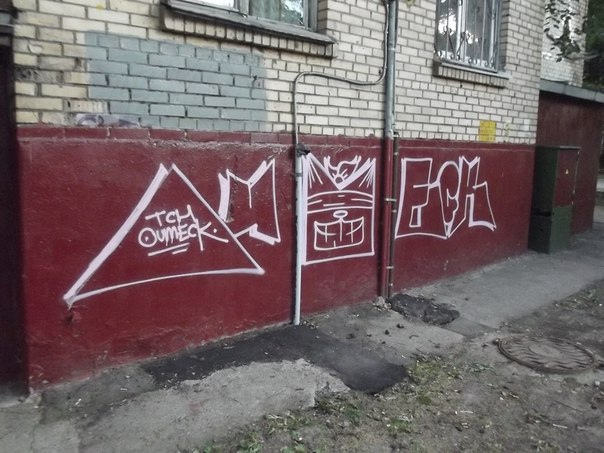graffity: (49, 140, 500, 308)
